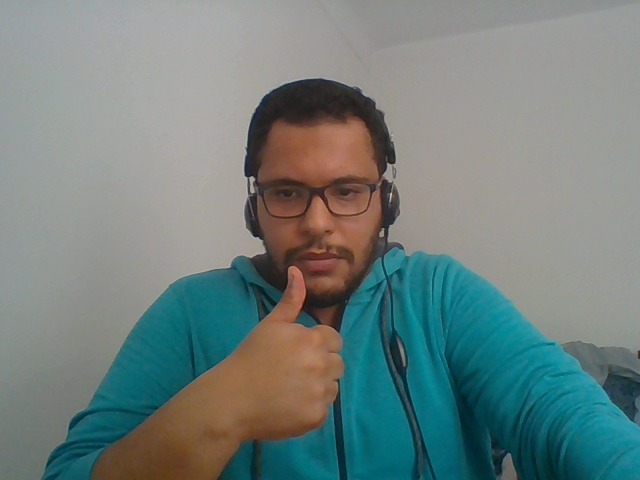ok: (215, 251, 364, 463)
